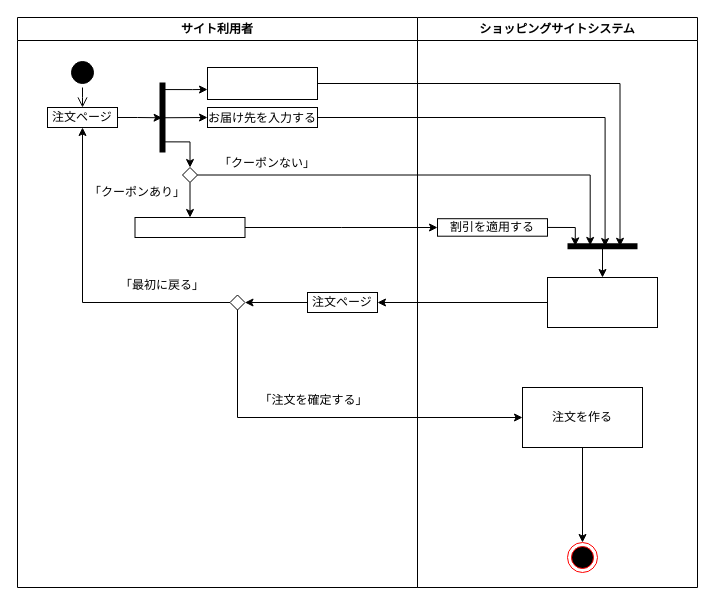
This 715x605 diagram has some shape labels left out. The shapes that lost their labels are listed below. From the top down, each one's centre as x and y in pixels, then its label:
At point (262, 83): "クレジットカード情報を入力する".
At point (189, 227): "クーポンを入力する".
At point (602, 302): "入力情報を確認する".
